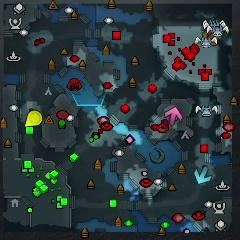p4: (25, 111, 43, 127)
x1: (164, 105, 183, 126)
x3: (193, 166, 212, 185)
x5: (203, 31, 216, 46)
